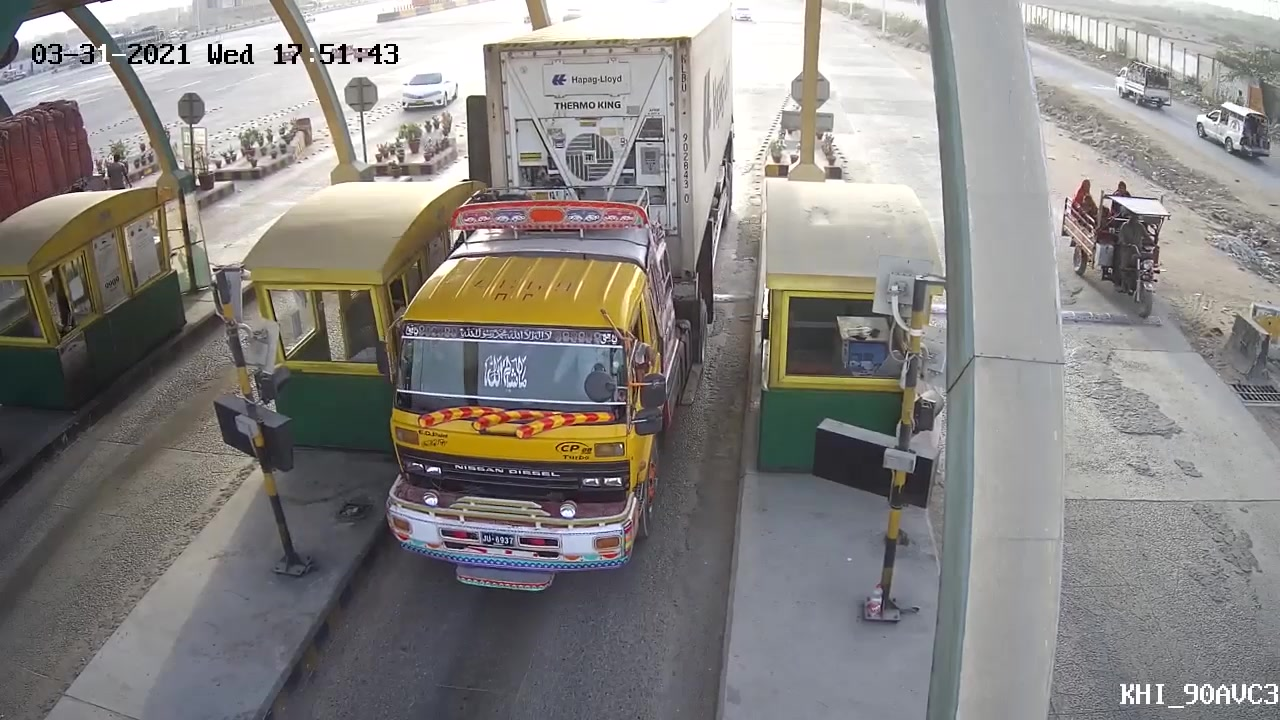F6: (383, 1, 743, 578)
